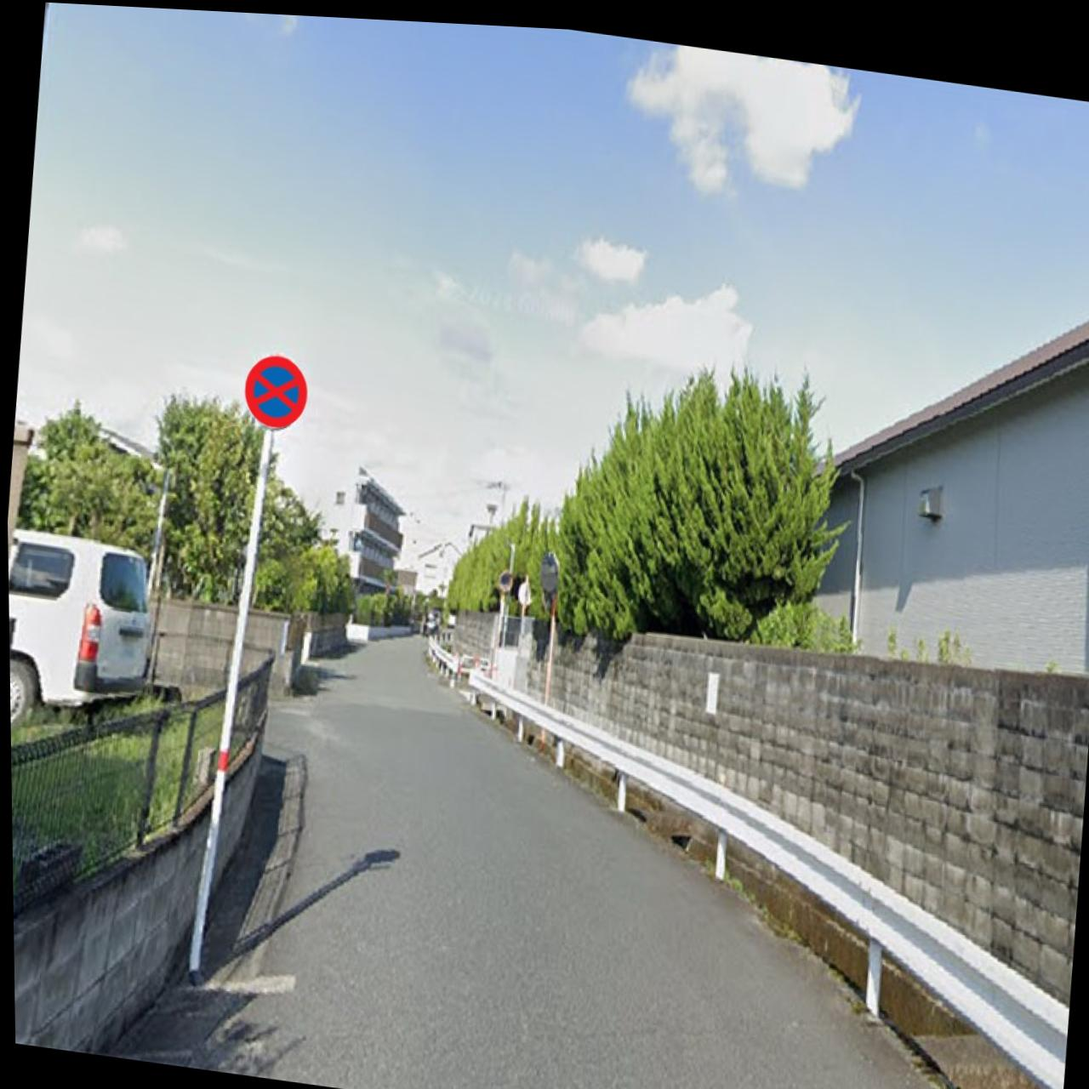stop_sign: (239, 347, 318, 433)
